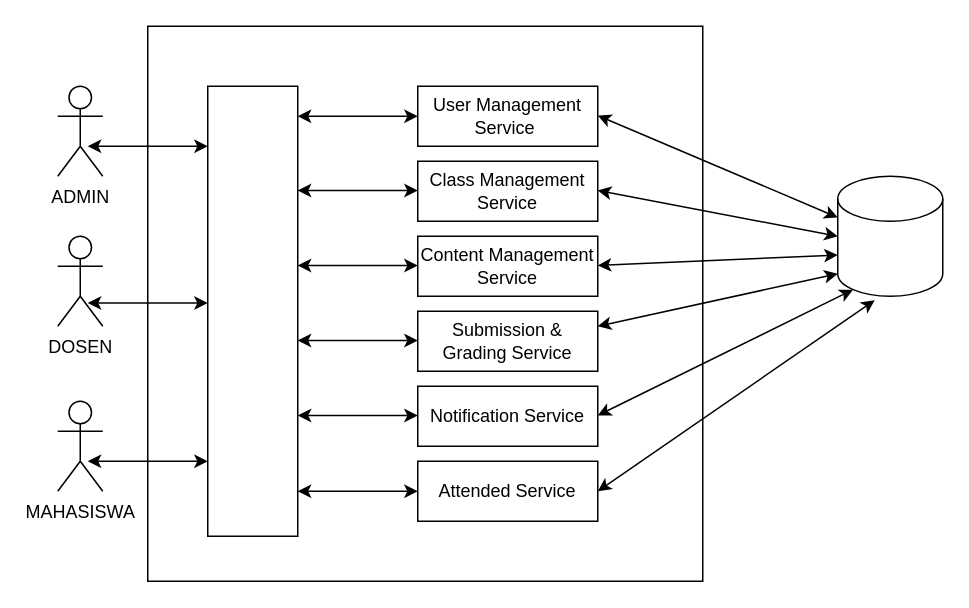
This 969x608 diagram has some shape labels left out. The shapes that lost their labels are listed below. From the top down, each one's box as (x1, y1, x2, y2) in pixels, then its label:
(836, 175, 943, 296): DATABASE
(206, 85, 298, 536): USER INTERFACE
